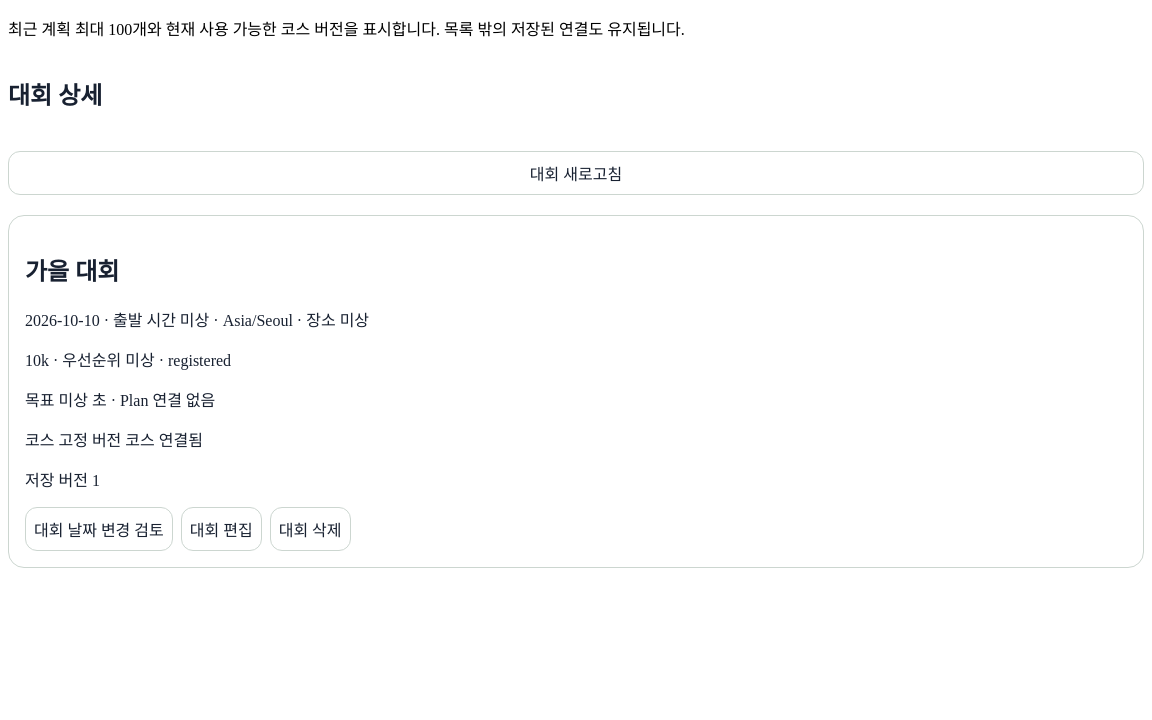
loads actual capabilities and strict current PlanRead only when date review is opened
This screenshot has width=1152, height=720.
Step 1. Click the button "대회 날짜 변경 검토" → {"x": 99, "y": 529}, box [25,507,173,551]
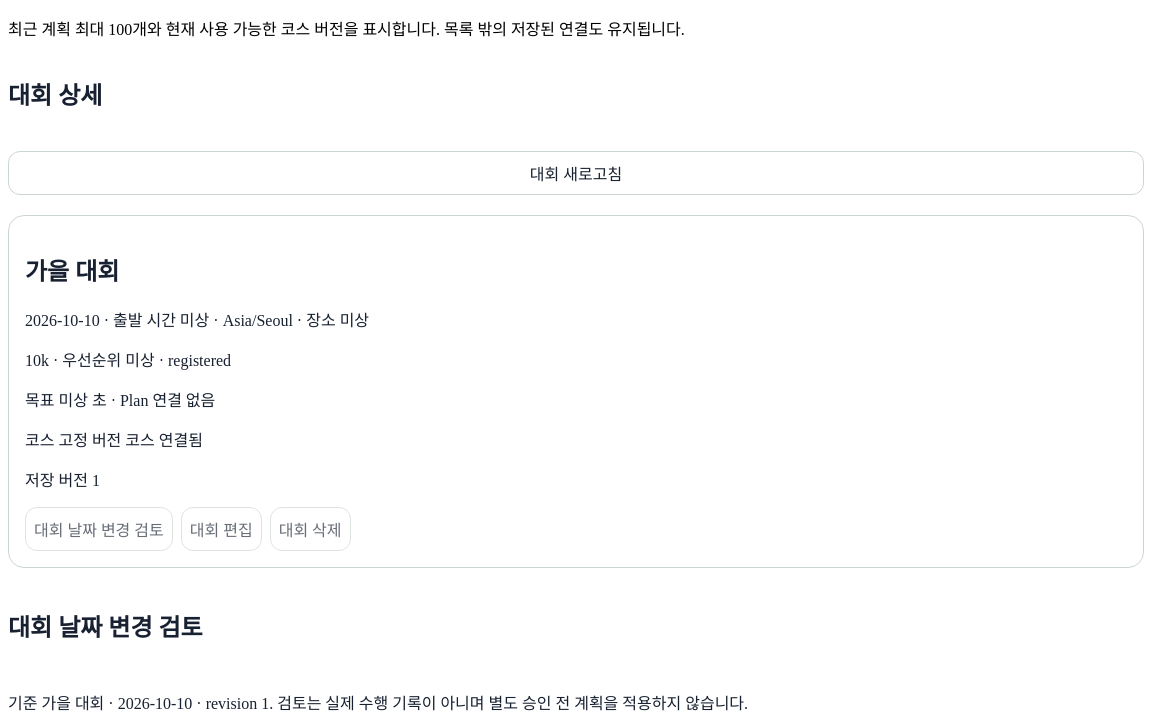
Expected: the button "대회 편집" is disabled, [181,507,262,551]
